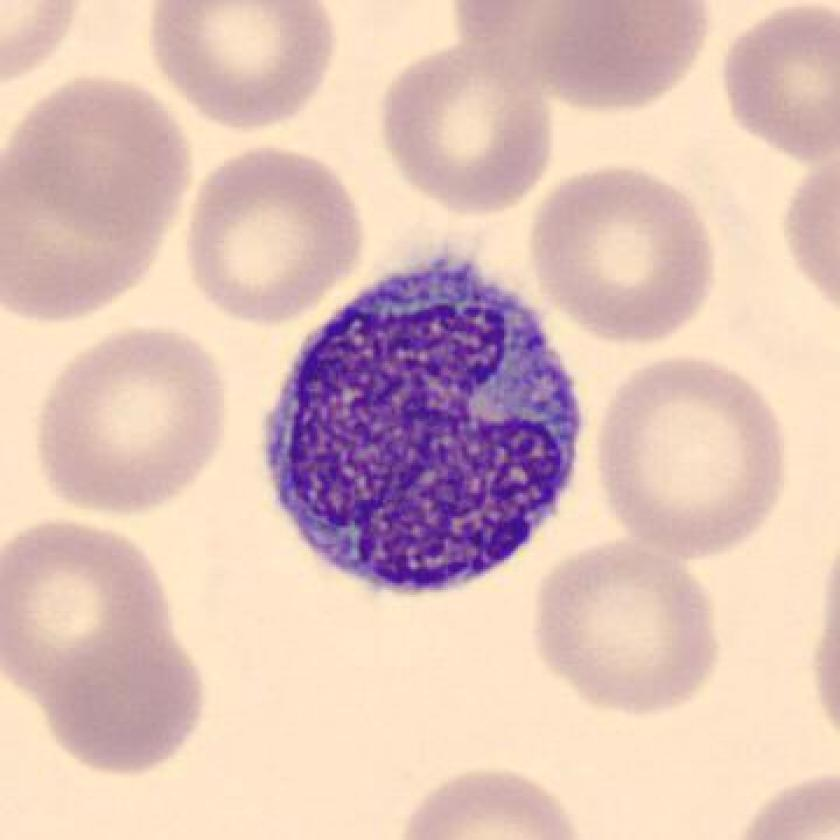monocyte: (237, 233, 610, 631)
